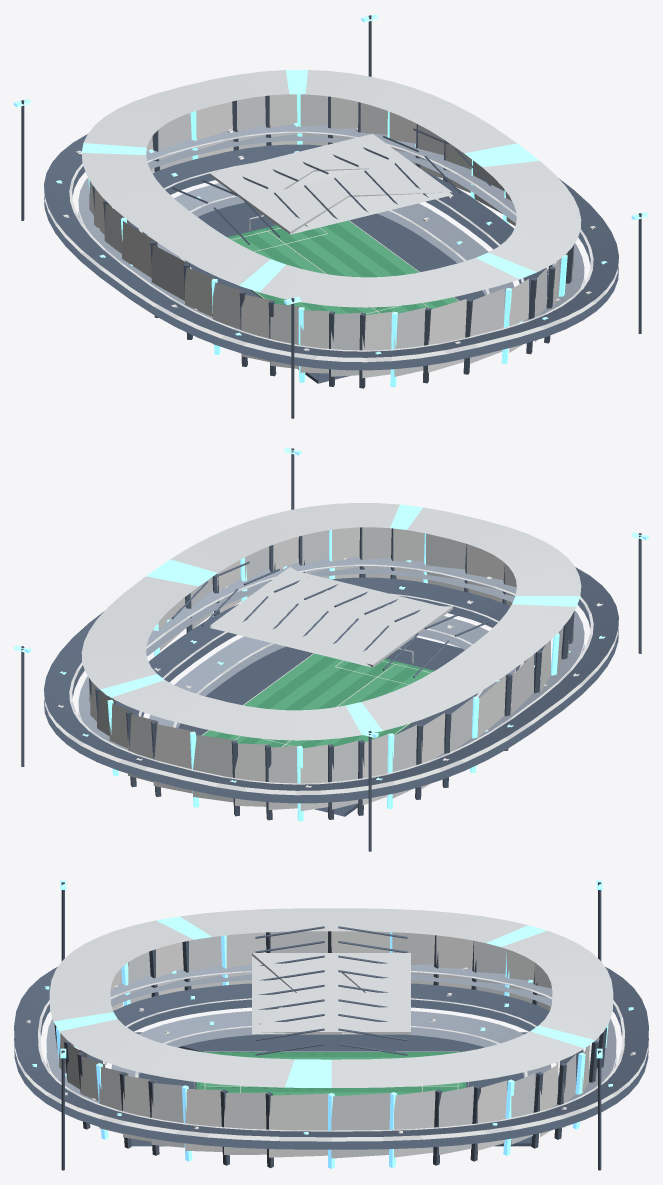
Rendered from bernabeu.glb.
3 renders of one model, top to bottom at view 1: azimuth 30°, elevation 25°; view 2: azimuth 150°, elevation 25°; view 3: azimuth 270°, elevation 25°, orthographic.
Visible parts, largest first — view 1: Santiago Bernabéu; view 2: Santiago Bernabéu; view 3: Santiago Bernabéu.
Part boxes in pixels (x1,y1,x2,y2): Santiago Bernabéu: (14, 14, 648, 418); Santiago Bernabéu: (14, 447, 648, 851); Santiago Bernabéu: (14, 880, 648, 1170).
Bounding box in the file's own units: 71.89 × 19.8 × 91.9.
